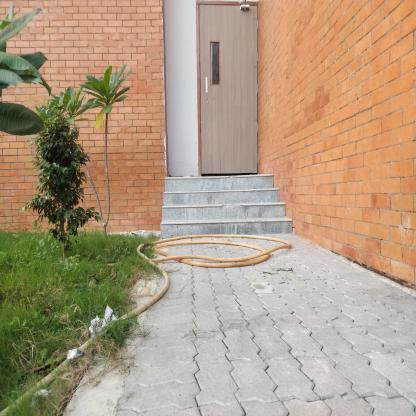stairs: (168, 172, 272, 242)
